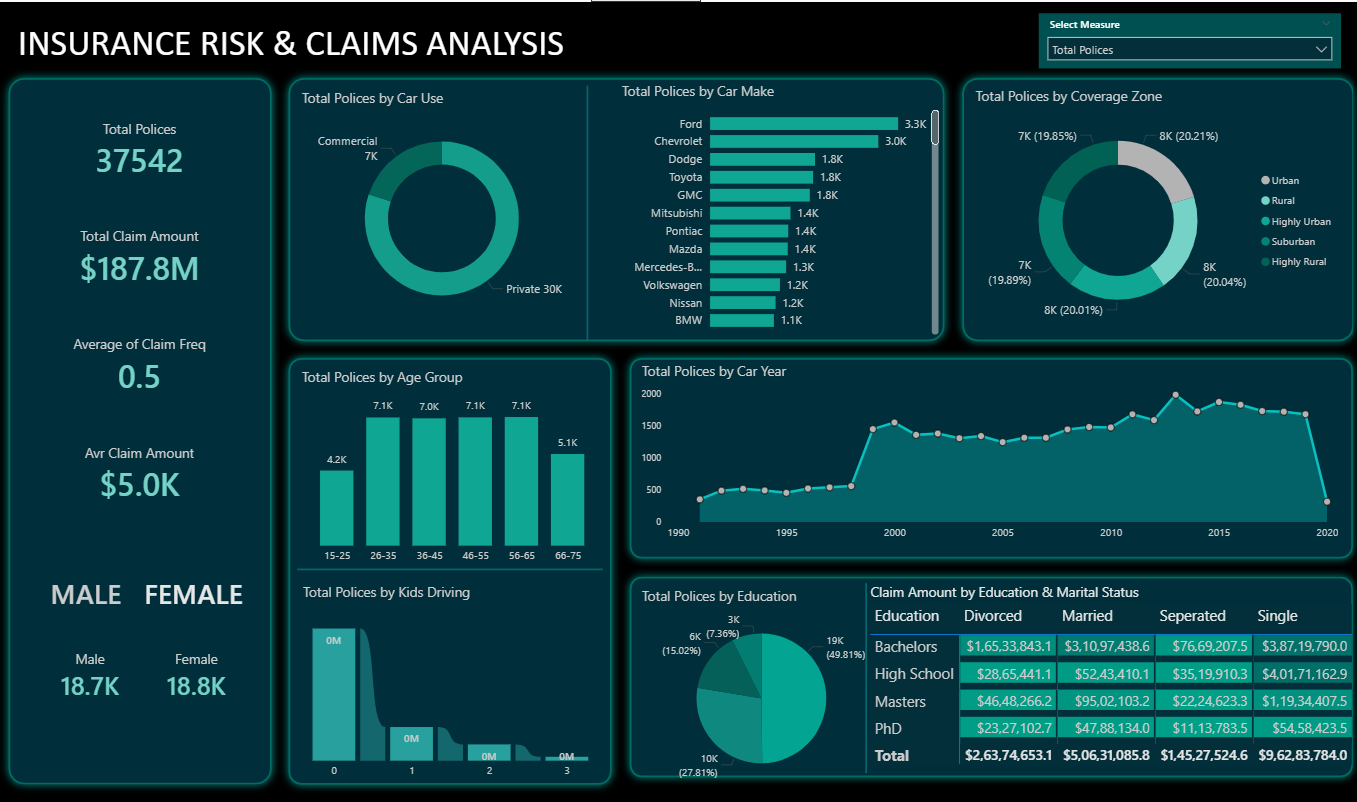

The page's visual inventory and layout, read from the dashboard file:
{"tool":"powerbi","page":{"name":"Page 1","canvas":[1600,950],"ordinal":0},"visuals":[{"type":"textbox","box":[15.4,15.4,669,63.5],"z":0},{"type":"shape","box":[0,78.9,329.3,850],"z":1000},{"type":"cardVisual","fields":{"Data":["insurance_data_car.Total Polices","insurance_data_car.Total Claim Amount","Avg(insurance_data_car.Claim Freq)","insurance_data_car.Avr Claim Amount"]},"box":[29.2,104.6,269.3,518],"z":2000},{"type":"cardVisual","fields":{"Data":["insurance_data_car.Male Count","insurance_data_car.Female Count"]},"box":[37.7,735.9,260.7,109.8],"z":3000},{"type":"slicer","fields":{"Values":["Select Measure.Select Measure"]},"box":[1221.3,13.7,355.1,65.2],"z":4000},{"type":"shape","box":[329.3,78.9,790.7,329.3],"z":5000},{"type":"donutChart","fields":{"Y":["insurance_data_car.Total Polices"],"Category":["insurance_data_car.Car Use"]},"box":[349.9,101.2,339.6,284.7],"z":6000},{"type":"clusteredBarChart","fields":{"Y":["insurance_data_car.Total Polices"],"Category":["insurance_data_car.Car Make"]},"box":[725.6,92.6,382.5,303.6],"z":7000},{"type":"textbox","box":[54.9,669,104.6,66.9],"z":8000},{"type":"textbox","box":[164.7,669,145.8,60],"z":9000},{"type":"shape","box":[1120.1,78.9,480.3,329.3],"z":10000},{"type":"donutChart","fields":{"Y":["insurance_data_car.Total Polices"],"Category":["insurance_data_car.Coverage Zone"]},"box":[1140.7,97.8,437.4,295],"z":11000},{"type":"shape","box":[329.3,408.2,399.7,521.4],"z":12000},{"type":"clusteredColumnChart","fields":{"Y":["insurance_data_car.Total Polices"],"Category":["insurance_data_car.Age Group"]},"box":[349.9,428.8,365.4,240.1],"z":13000},{"type":"ribbonChart","fields":{"Y":["insurance_data_car.Total Polices"],"Category":["insurance_data_car.Kids Driving"]},"box":[351.6,681,356.8,240.1],"z":14000},{"type":"shape","box":[730.7,408.2,869.6,255.6],"z":15000},{"type":"areaChart","fields":{"Y":["insurance_data_car.Total Polices"],"Category":["insurance_data_car.Car Year"]},"box":[749.6,422,828.5,219.6],"z":16000},{"type":"shape","box":[730.7,665.5,869.6,255.6],"z":17000},{"type":"pieChart","fields":{"Y":["insurance_data_car.Total Polices"],"Category":["insurance_data_car.Education"]},"box":[749.6,686.1,291.6,243.6],"z":18000},{"type":"pivotTable","title":"Claim Amount by Education & Marital Status","fields":{"Rows":["insurance_data_car.Education"],"Columns":["insurance_data_car.Marital Status"],"Values":["insurance_data_car.Total Claim Amount"]},"box":[1017.2,681,583.2,231.6],"z":19000},{"type":"shape","box":[655.2,97.8,70.3,300.2],"z":19001},{"type":"shape","box":[982.9,682.7,70.3,223],"z":19002},{"type":"shape","box":[349.9,641.5,358.5,49.7],"z":19003}]}

Visuals, with their boxes in screenshot pixels (x1, y1, x2, y2), scaled from the page's 1600x950 canvas onto the 1357x802 screenshot:
textbox: select_region(13, 13, 580, 67)
shape: select_region(0, 67, 279, 784)
cardVisual - insurance_data_car.Total Polices x insurance_data_car.Total Claim Amount: select_region(25, 88, 253, 526)
cardVisual - insurance_data_car.Male Count x insurance_data_car.Female Count: select_region(32, 621, 253, 714)
slicer - Select Measure.Select Measure: select_region(1036, 12, 1337, 67)
shape: select_region(279, 67, 950, 345)
donutChart - insurance_data_car.Total Polices x insurance_data_car.Car Use: select_region(297, 85, 585, 326)
clusteredBarChart - insurance_data_car.Total Polices x insurance_data_car.Car Make: select_region(615, 78, 940, 334)
textbox: select_region(47, 565, 135, 621)
textbox: select_region(140, 565, 263, 615)
shape: select_region(950, 67, 1356, 345)
donutChart - insurance_data_car.Total Polices x insurance_data_car.Coverage Zone: select_region(967, 83, 1338, 332)
shape: select_region(279, 345, 618, 785)
clusteredColumnChart - insurance_data_car.Total Polices x insurance_data_car.Age Group: select_region(297, 362, 607, 565)
ribbonChart - insurance_data_car.Total Polices x insurance_data_car.Kids Driving: select_region(298, 575, 601, 778)
shape: select_region(620, 345, 1356, 560)
areaChart - insurance_data_car.Total Polices x insurance_data_car.Car Year: select_region(636, 356, 1338, 542)
shape: select_region(620, 562, 1356, 778)
pieChart - insurance_data_car.Total Polices x insurance_data_car.Education: select_region(636, 579, 883, 785)
"Claim Amount by Education & Marital Status" pivotTable: select_region(863, 575, 1356, 770)
shape: select_region(556, 83, 615, 336)
shape: select_region(834, 576, 893, 765)
shape: select_region(297, 542, 601, 584)
